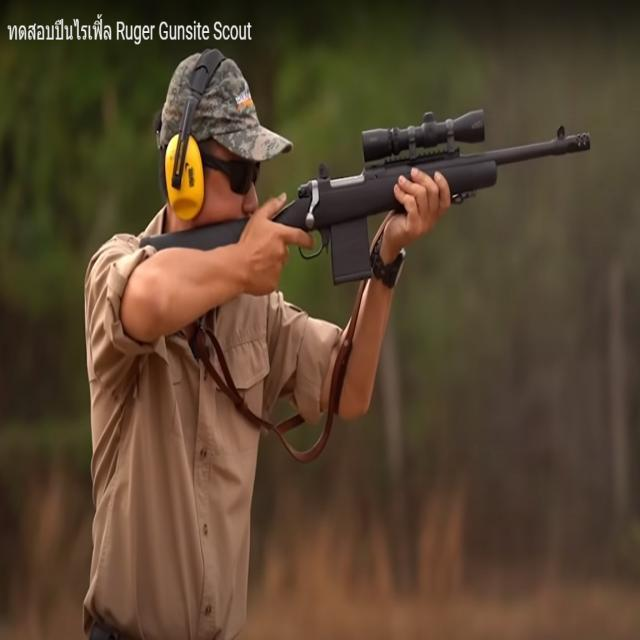rifle: (130, 102, 600, 302)
